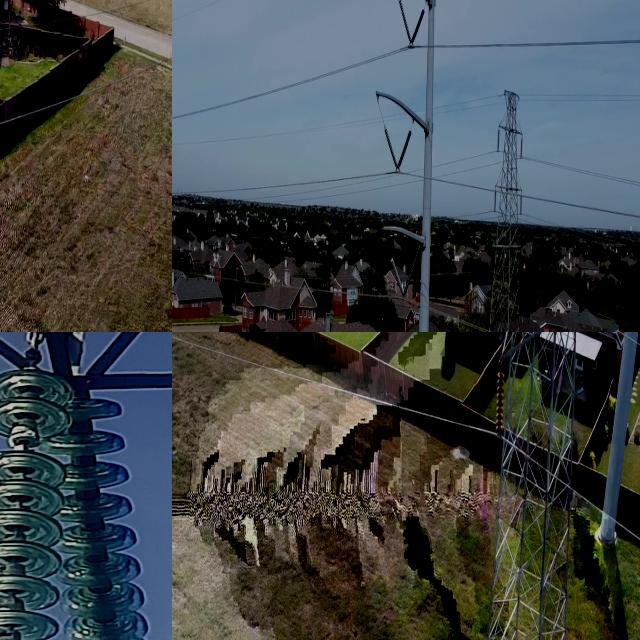杆塔: (473, 332, 572, 640), (467, 76, 530, 332)
正常绝缘子: (49, 385, 163, 640), (0, 367, 78, 640), (490, 364, 510, 453), (377, 115, 403, 179), (390, 121, 415, 184), (402, 1, 428, 59), (385, 242, 407, 303), (398, 246, 419, 307), (393, 0, 417, 51), (519, 132, 524, 161), (519, 189, 524, 217), (493, 188, 498, 215), (496, 123, 500, 154)
绝缘子破损: (5, 428, 42, 449)
